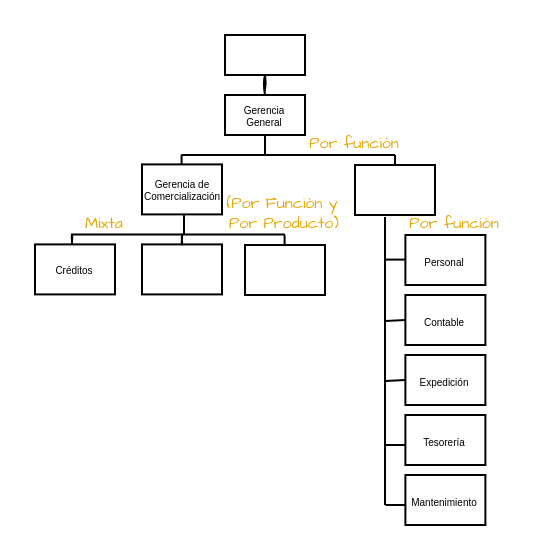
Image size: 550x560. Some labels were removed from this diagram. Each missing label, with the box of its shape:
Directorio: (223, 33, 305, 75)
Gerencia de Administración: (353, 163, 435, 215)
Inversiones: (140, 242, 222, 294)
Marketing: (243, 243, 325, 295)
